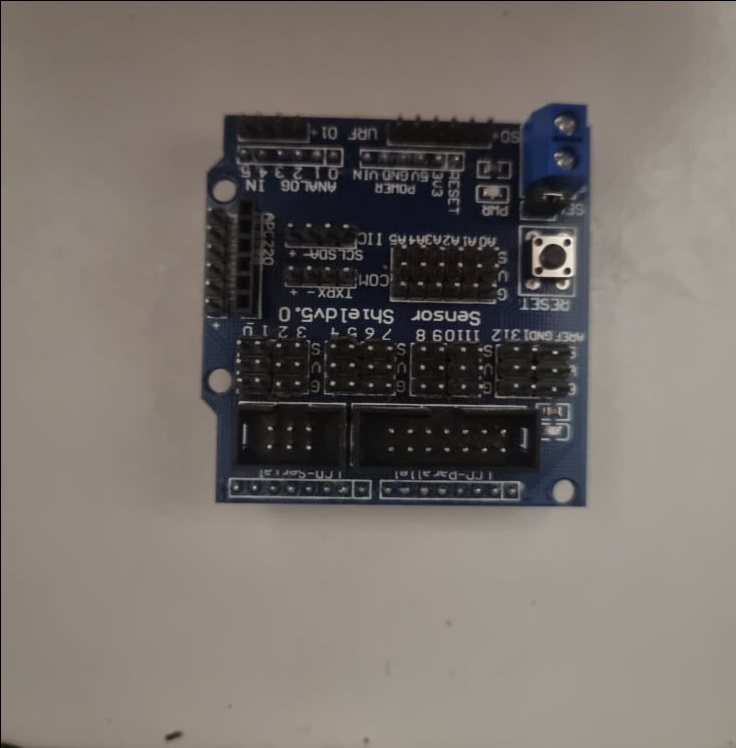5V EXPANSION: (199, 99, 590, 511)
